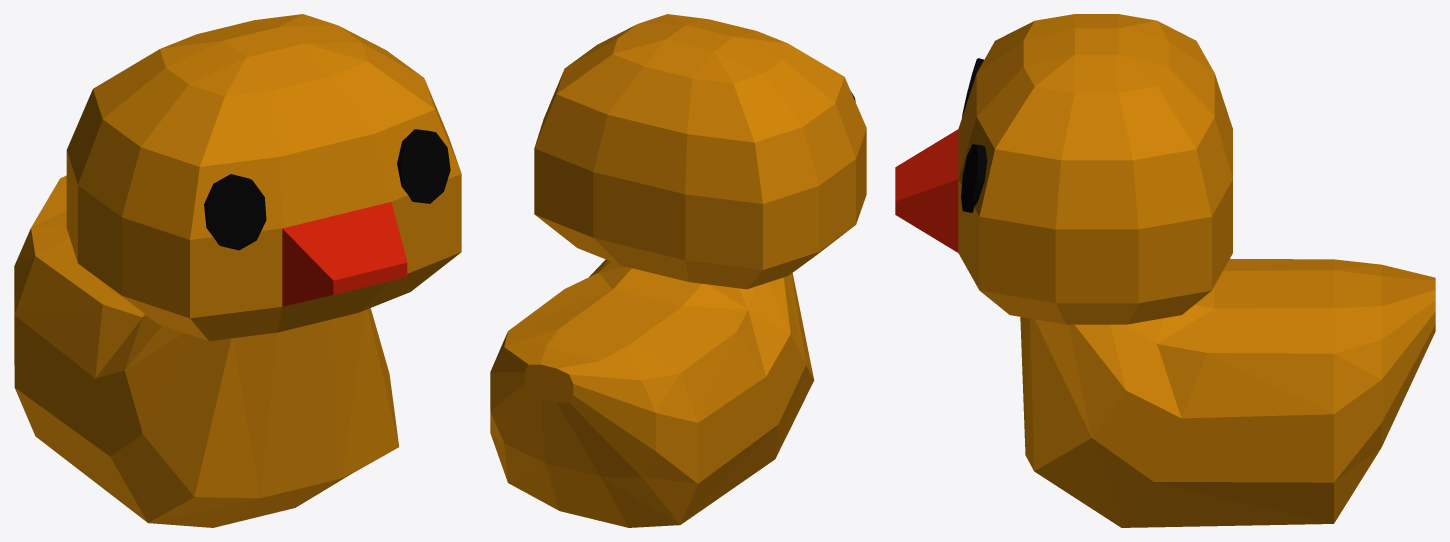
File: Duck.obj
3 renders of one model, left to right at view 1: azimuth 30°, elevation 25°; view 2: azimuth 150°, elevation 25°; view 3: azimuth 270°, elevation 25°, orthographic. The views are drawn at different scales.
Visible parts, largest first — view 1: Cube_Cube.003; view 2: Cube_Cube.003; view 3: Cube_Cube.003.
Boxes of the visible parts, x1,y1,x2,y2 form: Cube_Cube.003: (14, 14, 461, 527); Cube_Cube.003: (490, 14, 866, 527); Cube_Cube.003: (895, 14, 1435, 527).
Size of the model in its own units: 3.61 by 5.09 by 5.48.
